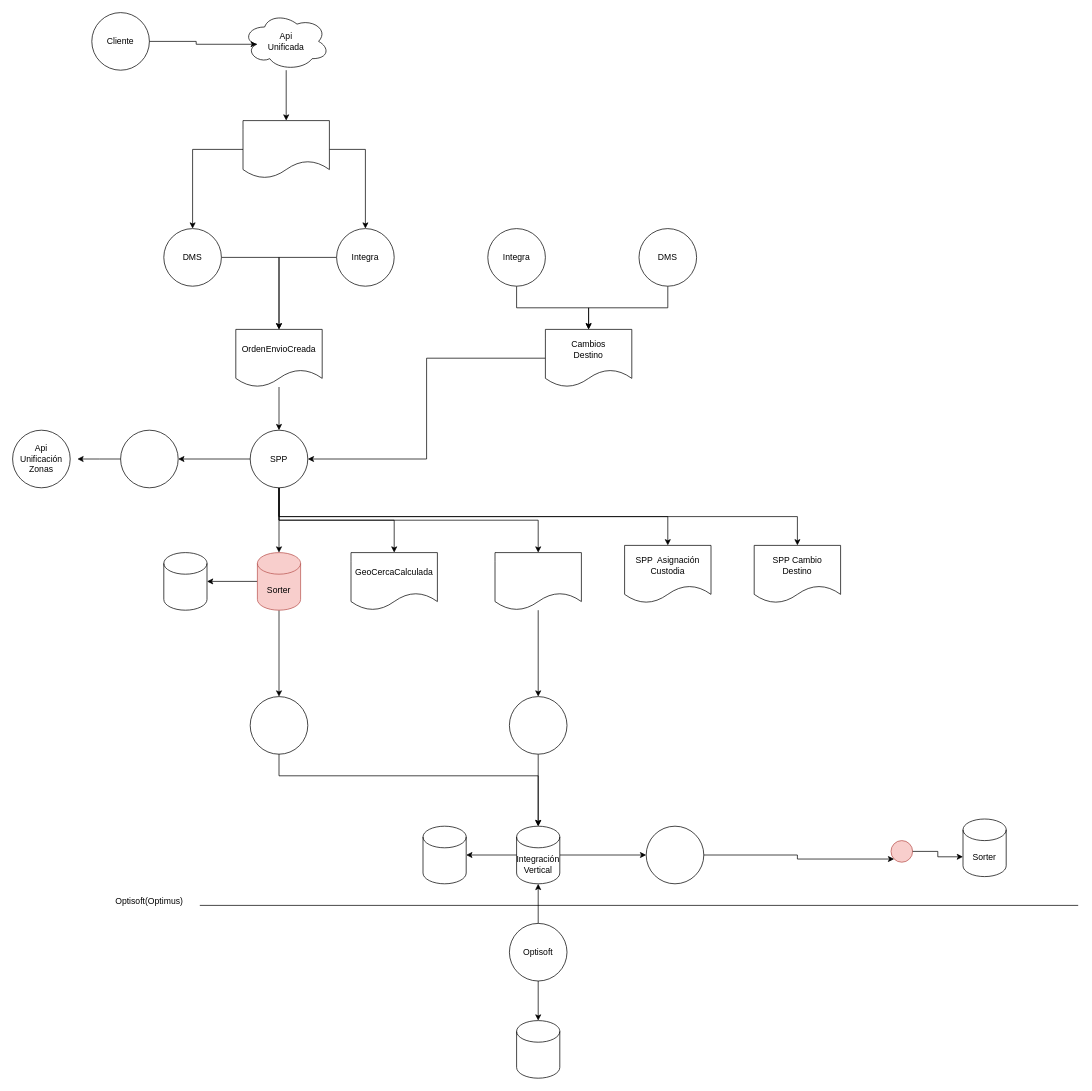
Image size: 1092x1091. Some labels were removed from this diagram. Here are the shapes that lost their labels. From the top down, the box of each, then its label:
(242, 120, 329, 178): OrdenEnvioSolicitada
(120, 429, 178, 488): Api NDD
(163, 552, 207, 610): Sorter Nodo2
(494, 552, 581, 610): SPP Alta Envio
(249, 696, 308, 754): Job Rampa 6
(509, 696, 567, 754): Suscriptor Vertical
(422, 825, 466, 884): Integración Vertical Nodo 2
(645, 825, 704, 884): PublisherVerticalToSPP
(516, 1020, 560, 1078): Sorter Vertical
